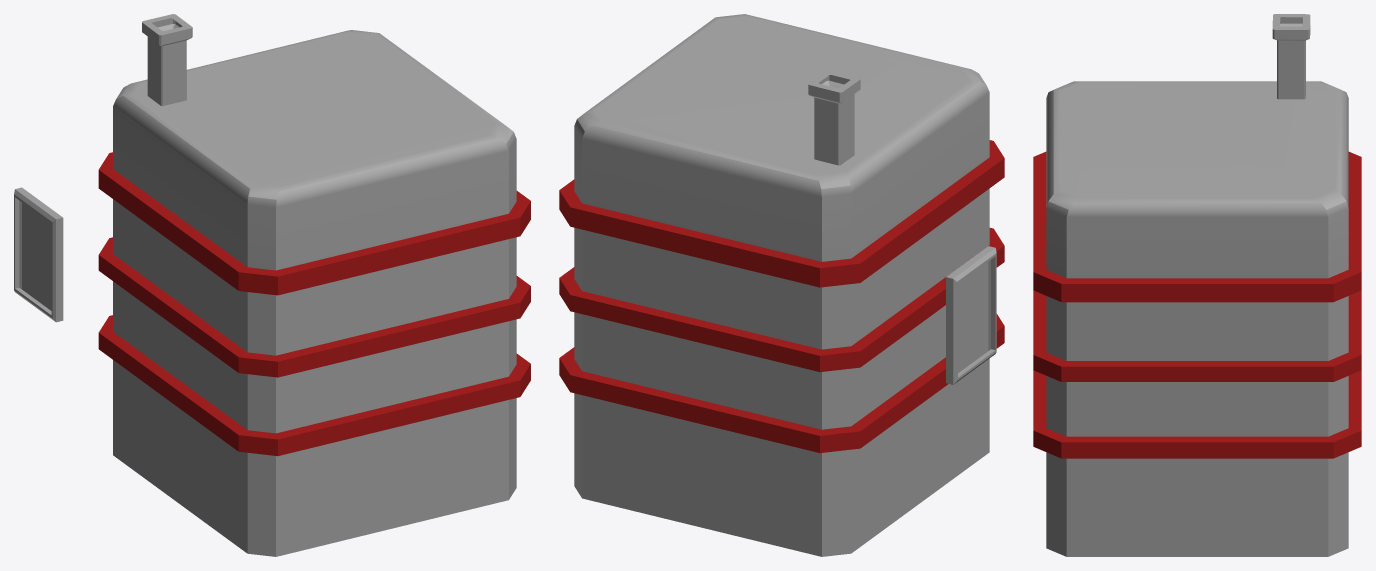
File: Building4.fbx
3 views of the same model, side by side, from view 1: azimuth 30°, elevation 25°; view 2: azimuth 150°, elevation 25°; view 3: azimuth 270°, elevation 25° (orthographic). The views are drawn at different scales.
Visible parts, largest first — view 1: pCube1, pCube2, pCube3; view 2: pCube1, pCube2, pCube3; view 3: pCube1, pCube3.
Part boxes in pixels (x1=…): pCube1: x1=98, y1=30, x2=530, y2=556; pCube2: x1=14, y1=187, x2=63, y2=322; pCube3: x1=142, y1=14, x2=192, y2=105; pCube1: x1=559, y1=14, x2=1004, y2=556; pCube2: x1=946, y1=246, x2=996, y2=384; pCube3: x1=808, y1=70, x2=860, y2=165; pCube1: x1=1033, y1=81, x2=1361, y2=556; pCube3: x1=1272, y1=14, x2=1310, y2=99.
Bounding box in the file's own units: 11.05 × 12.06 × 8.47.
